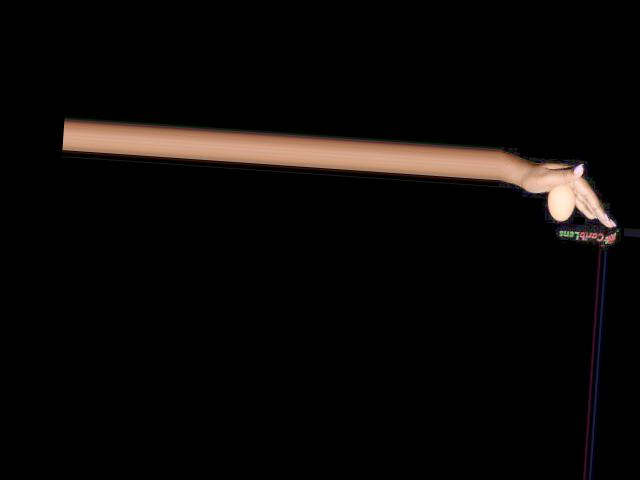egg: (545, 183, 576, 222)
